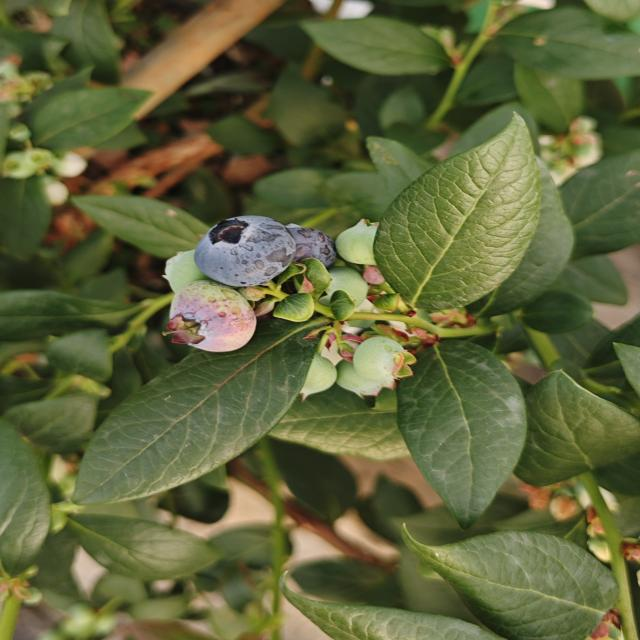ripe: (192, 213, 298, 289), (278, 214, 339, 272)
